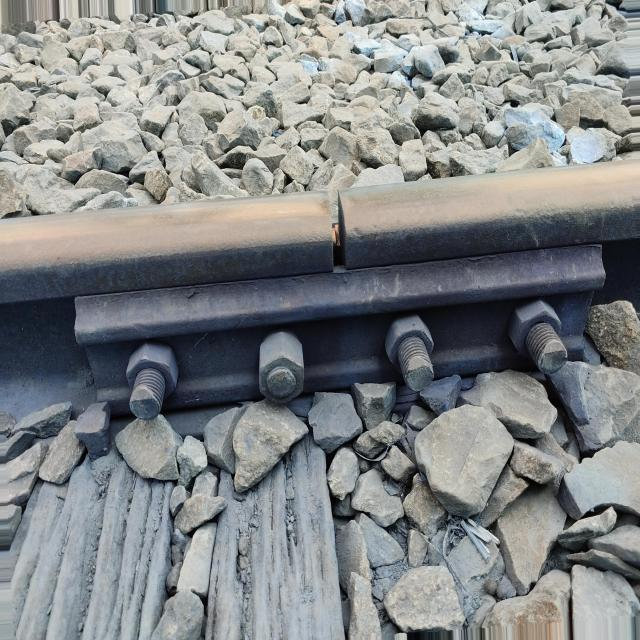Good Joint: (75, 245, 605, 419)
